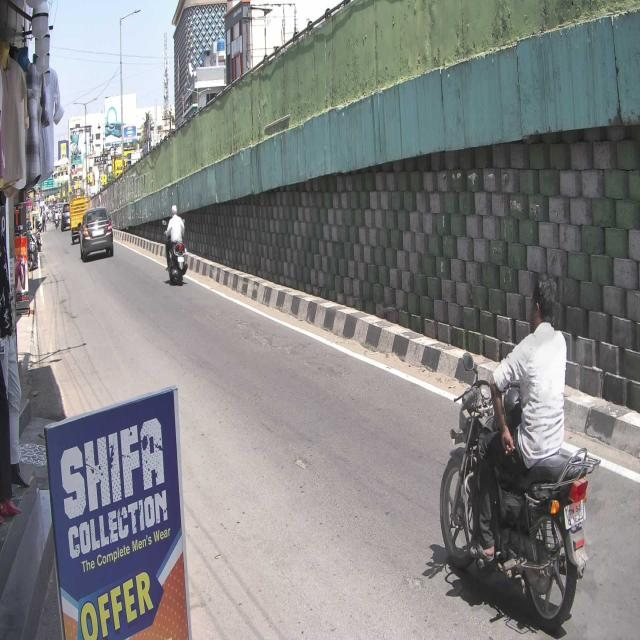single_rider: (440, 274, 598, 631)
